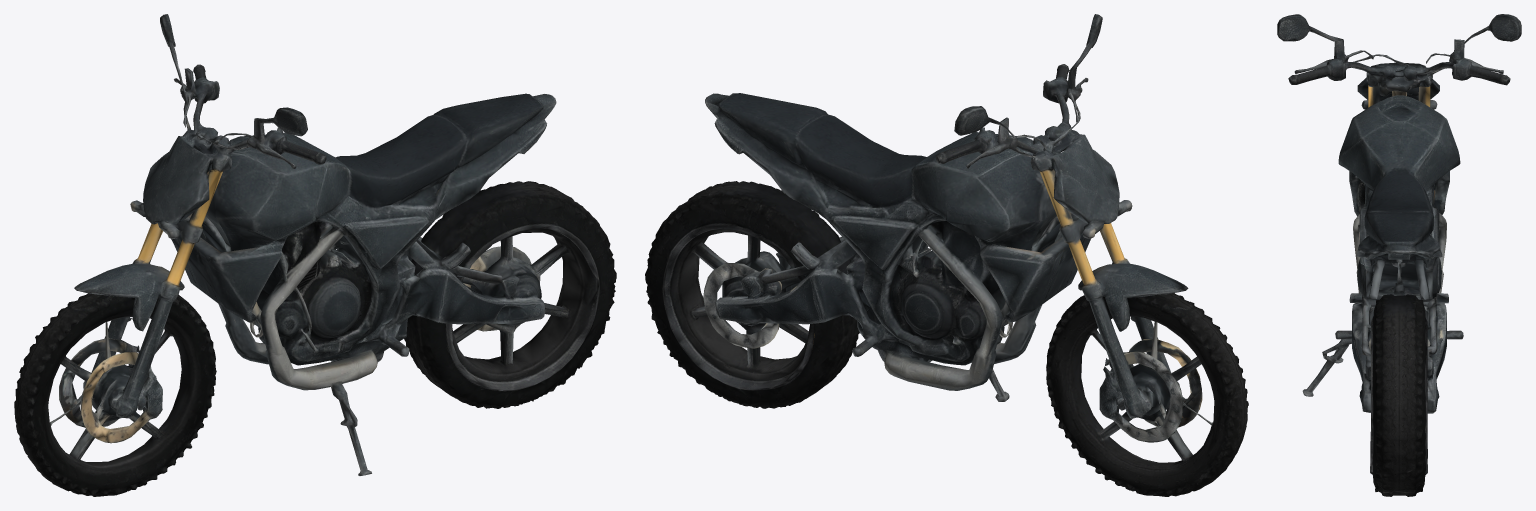
Rendered from moto-militaire-futuriste-v2.glb.
The picture shows the model from 3 angles, left to right: view 1: azimuth 30°, elevation 25°; view 2: azimuth 150°, elevation 25°; view 3: azimuth 270°, elevation 25°; orthographic projection. The views are drawn at different scales.
Parts seen in each view (by area): view 1: Mesh_0.001; view 2: Mesh_0.001; view 3: Mesh_0.001.
Part boxes in pixels (x1,y1,x2,y2): Mesh_0.001: (14,14,616,496); Mesh_0.001: (645,14,1248,496); Mesh_0.001: (1277,14,1521,496).
Bounding box in the file's own units: 1.83 × 1.2 × 0.7513.
1 material, 1 textured.
